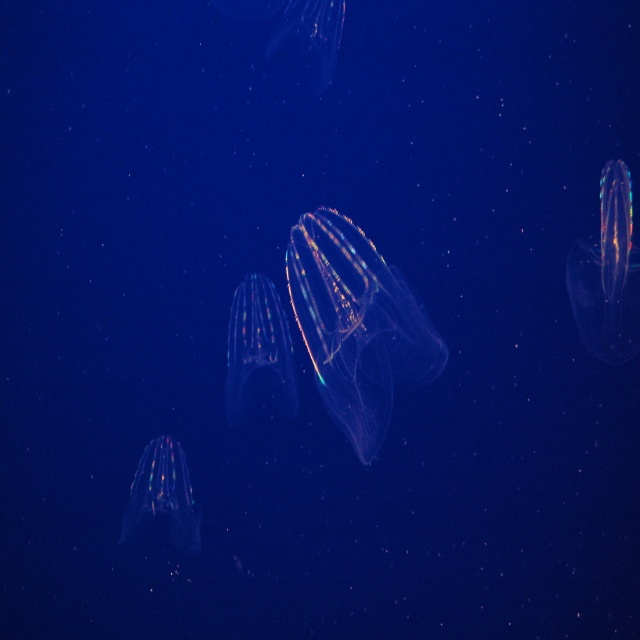Jellyfish: (283, 199, 450, 465), (563, 156, 640, 357), (225, 267, 306, 434), (124, 437, 203, 562)
